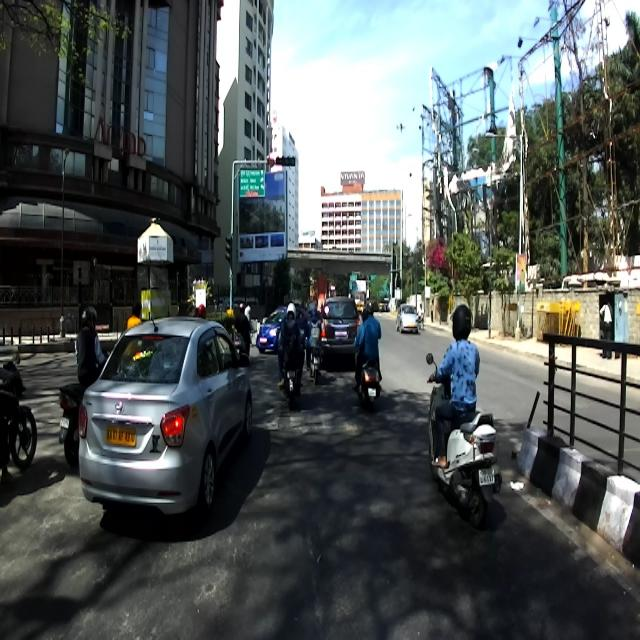car: (78, 314, 252, 521)
motorcycle: (0, 351, 37, 471), (278, 334, 304, 406)
scooter: (423, 351, 502, 526), (57, 355, 139, 463), (352, 331, 382, 406)
